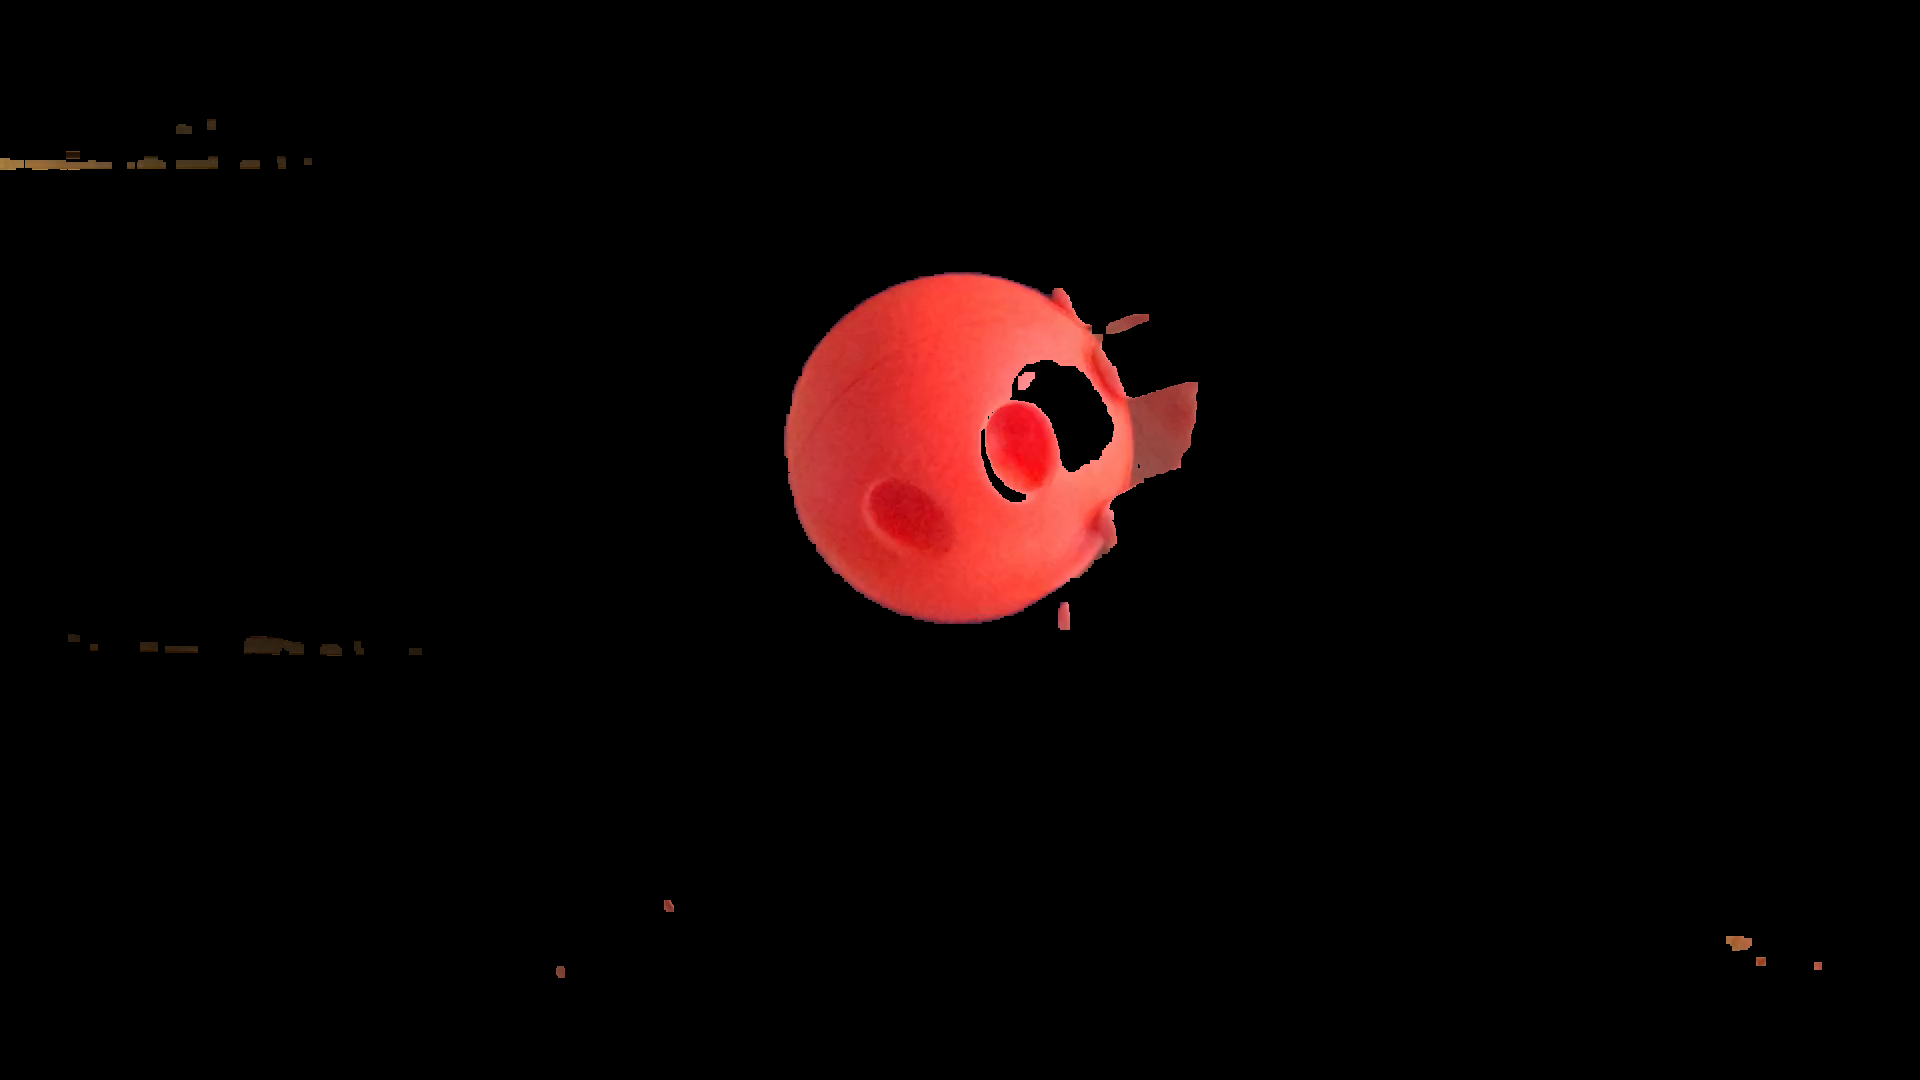Ball: (791, 266, 1135, 621)
